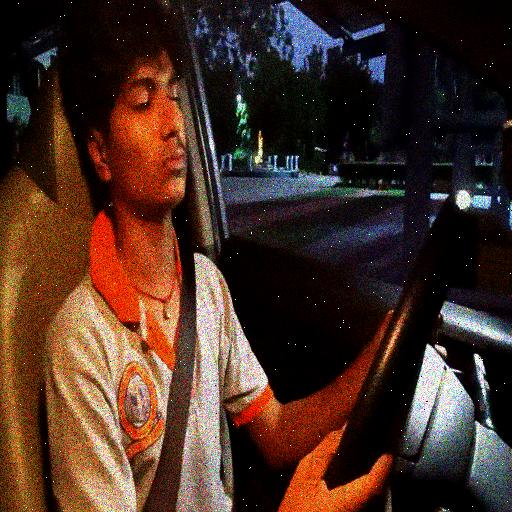sleepy: (61, 0, 198, 337)
